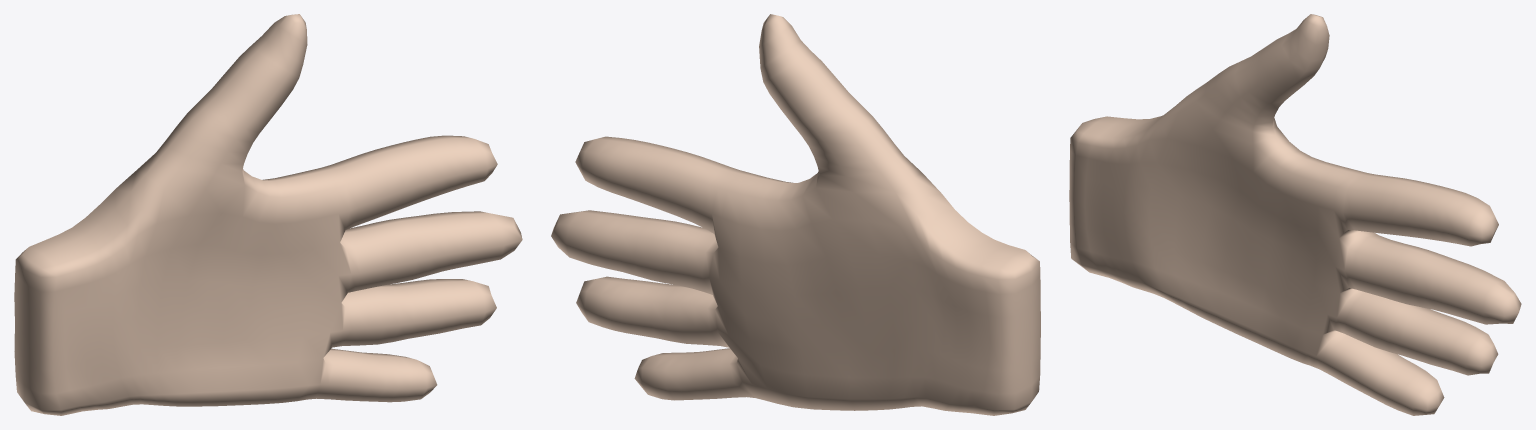
The model's file is 5 l_hand.fbx.
3 views of the same model, side by side, from view 1: azimuth 30°, elevation 25°; view 2: azimuth 150°, elevation 25°; view 3: azimuth 330°, elevation 25° (orthographic). The views are drawn at different scales.
Visible parts, largest first — view 1: l_hand; view 2: l_hand; view 3: l_hand.
Part boxes in pixels (x1=…): l_hand: x1=14, y1=14, x2=522, y2=415; l_hand: x1=551, y1=14, x2=1040, y2=415; l_hand: x1=1069, y1=14, x2=1521, y2=415.
Size of the model in its own units: 32.36 by 25.88 by 4.46.
